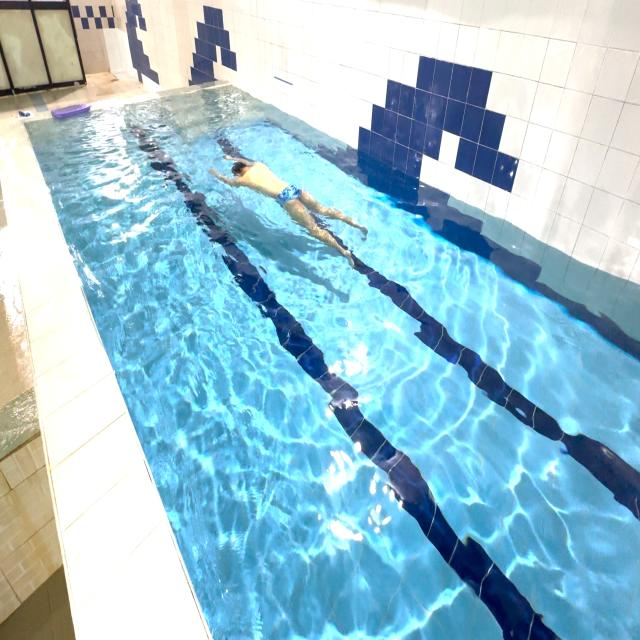Drowning: (204, 127, 379, 276)
